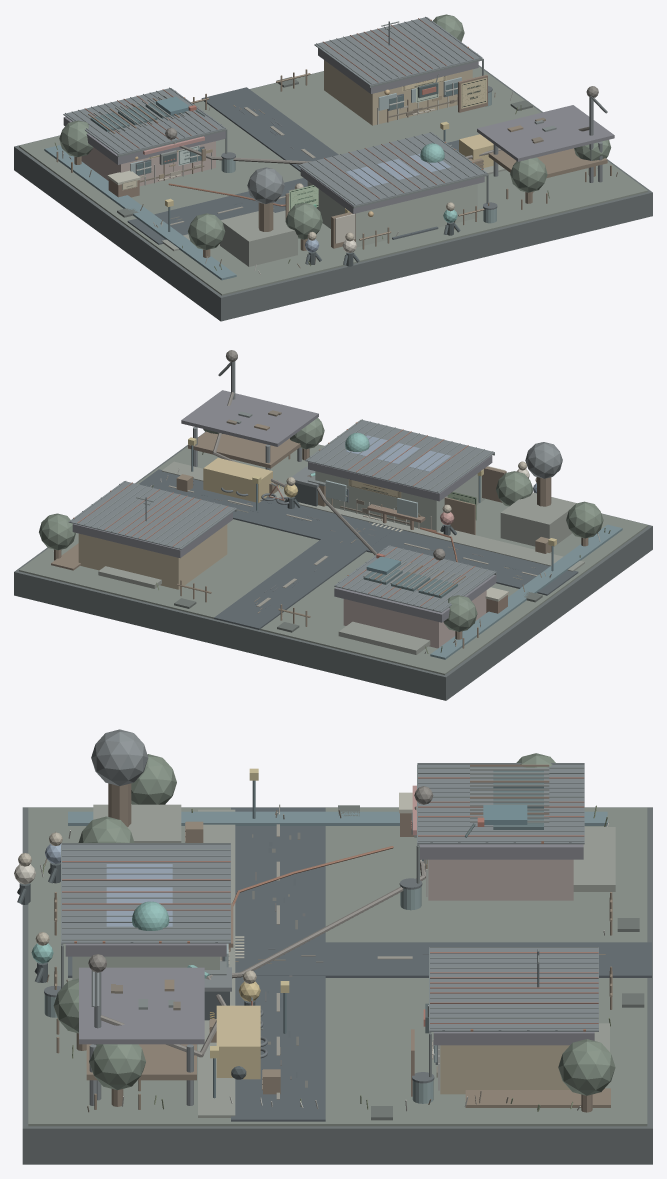
Rendered from yudae_e_commons_open_detailed.glb.
3 renders of one model, top to bottom at view 1: azimuth 30°, elevation 25°; view 2: azimuth 150°, elevation 25°; view 3: azimuth 270°, elevation 25°, orthographic. The views are drawn at different scales.
Parts seen in each view (by area): view 1: world; view 2: world; view 3: world.
Boxes of the visible parts, bbox=[...] form: world: bbox=[14, 14, 652, 321]; world: bbox=[14, 350, 652, 700]; world: bbox=[14, 729, 652, 1164].
Size of the model in its own units: 3.45 by 0.918 by 2.9.
9 materials, 9 textured.
